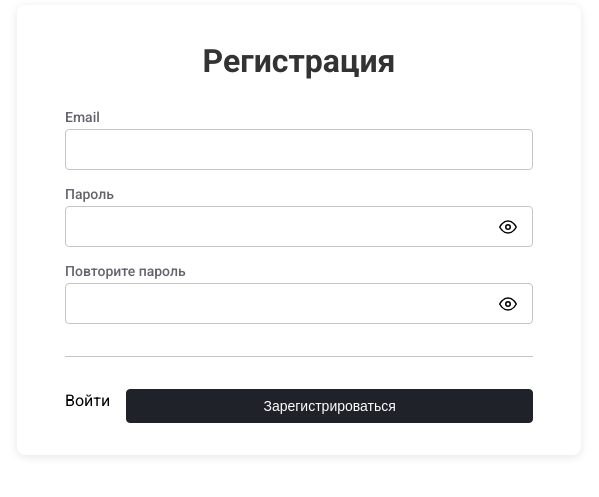
Test: Registration › shows length error for short passwords
Type "short" into the password field labelled "Пароль" at (299, 226), box [65,206,533,247]
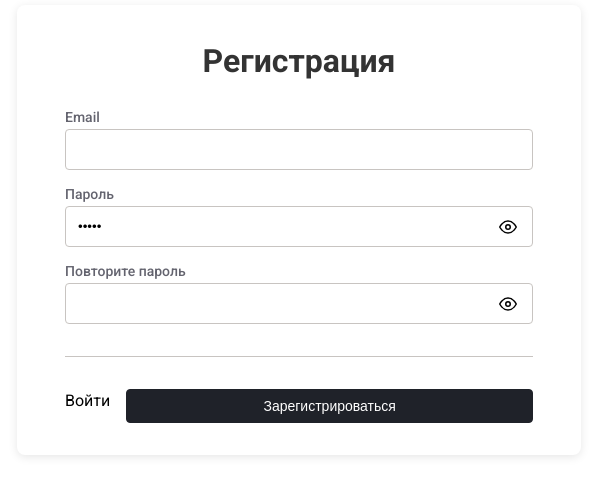
Leave the password field labelled "Пароль", box [65,206,533,247]
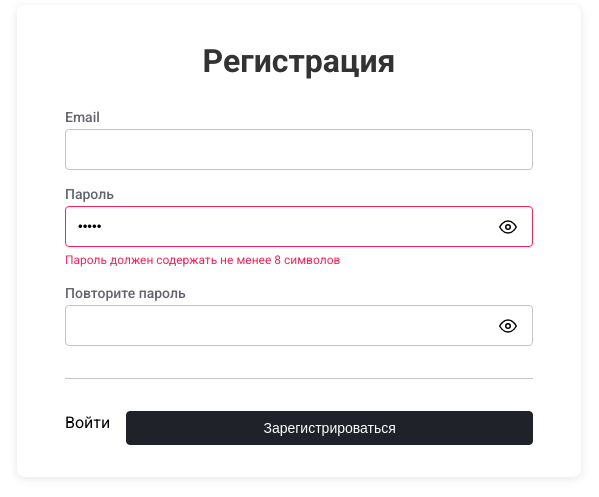
Expected: the text "Пароль должен содержать не менее 8 символов" is shown, [65,253,340,267]
